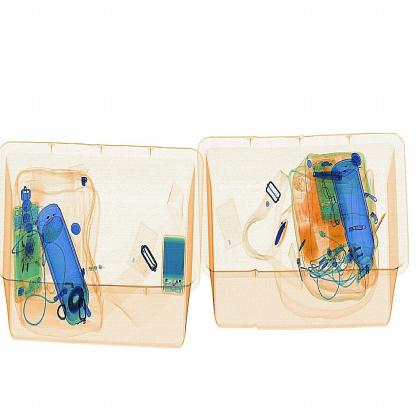wrench: (270, 207, 292, 256)
